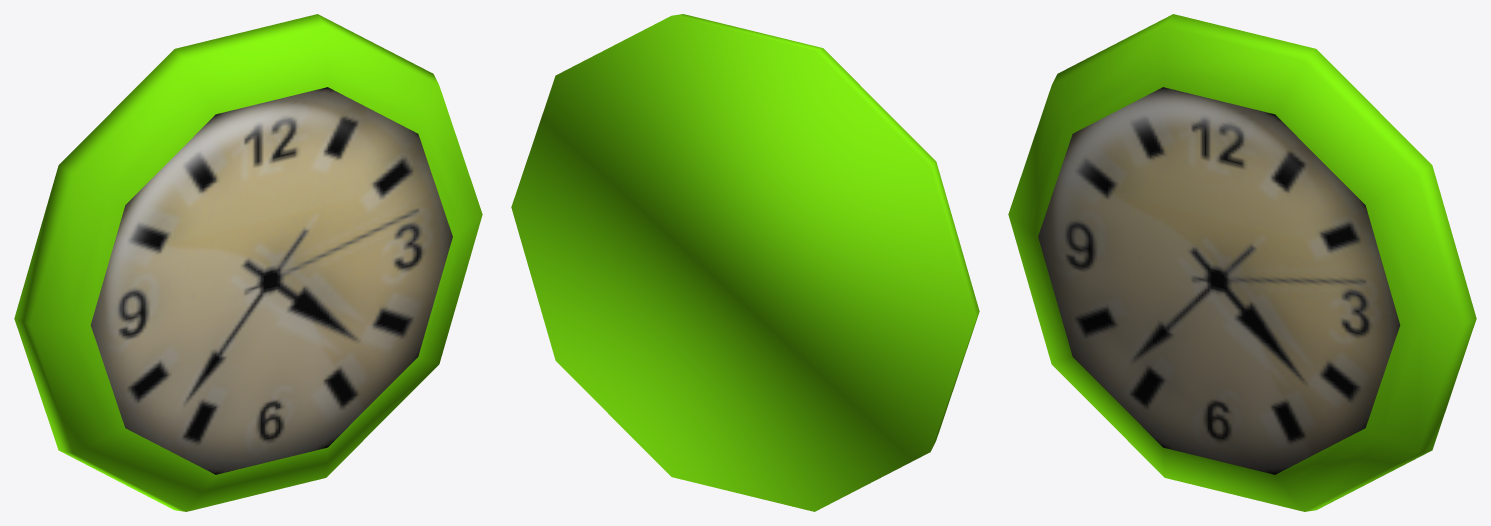
Rendered from Wall_Clock_G.FBX.
The picture shows the model from 3 angles, left to right: view 1: azimuth 30°, elevation 25°; view 2: azimuth 150°, elevation 25°; view 3: azimuth 330°, elevation 25°; orthographic projection.
Visible parts, largest first — view 1: Wall_Clock; view 2: Wall_Clock; view 3: Wall_Clock.
Boxes of the visible parts, x1,y1,x2,y2 form: Wall_Clock: (14,14,482,511); Wall_Clock: (511,14,979,511); Wall_Clock: (1008,14,1476,511).
Size of the model in its own units: 130 by 124 by 12.52.
